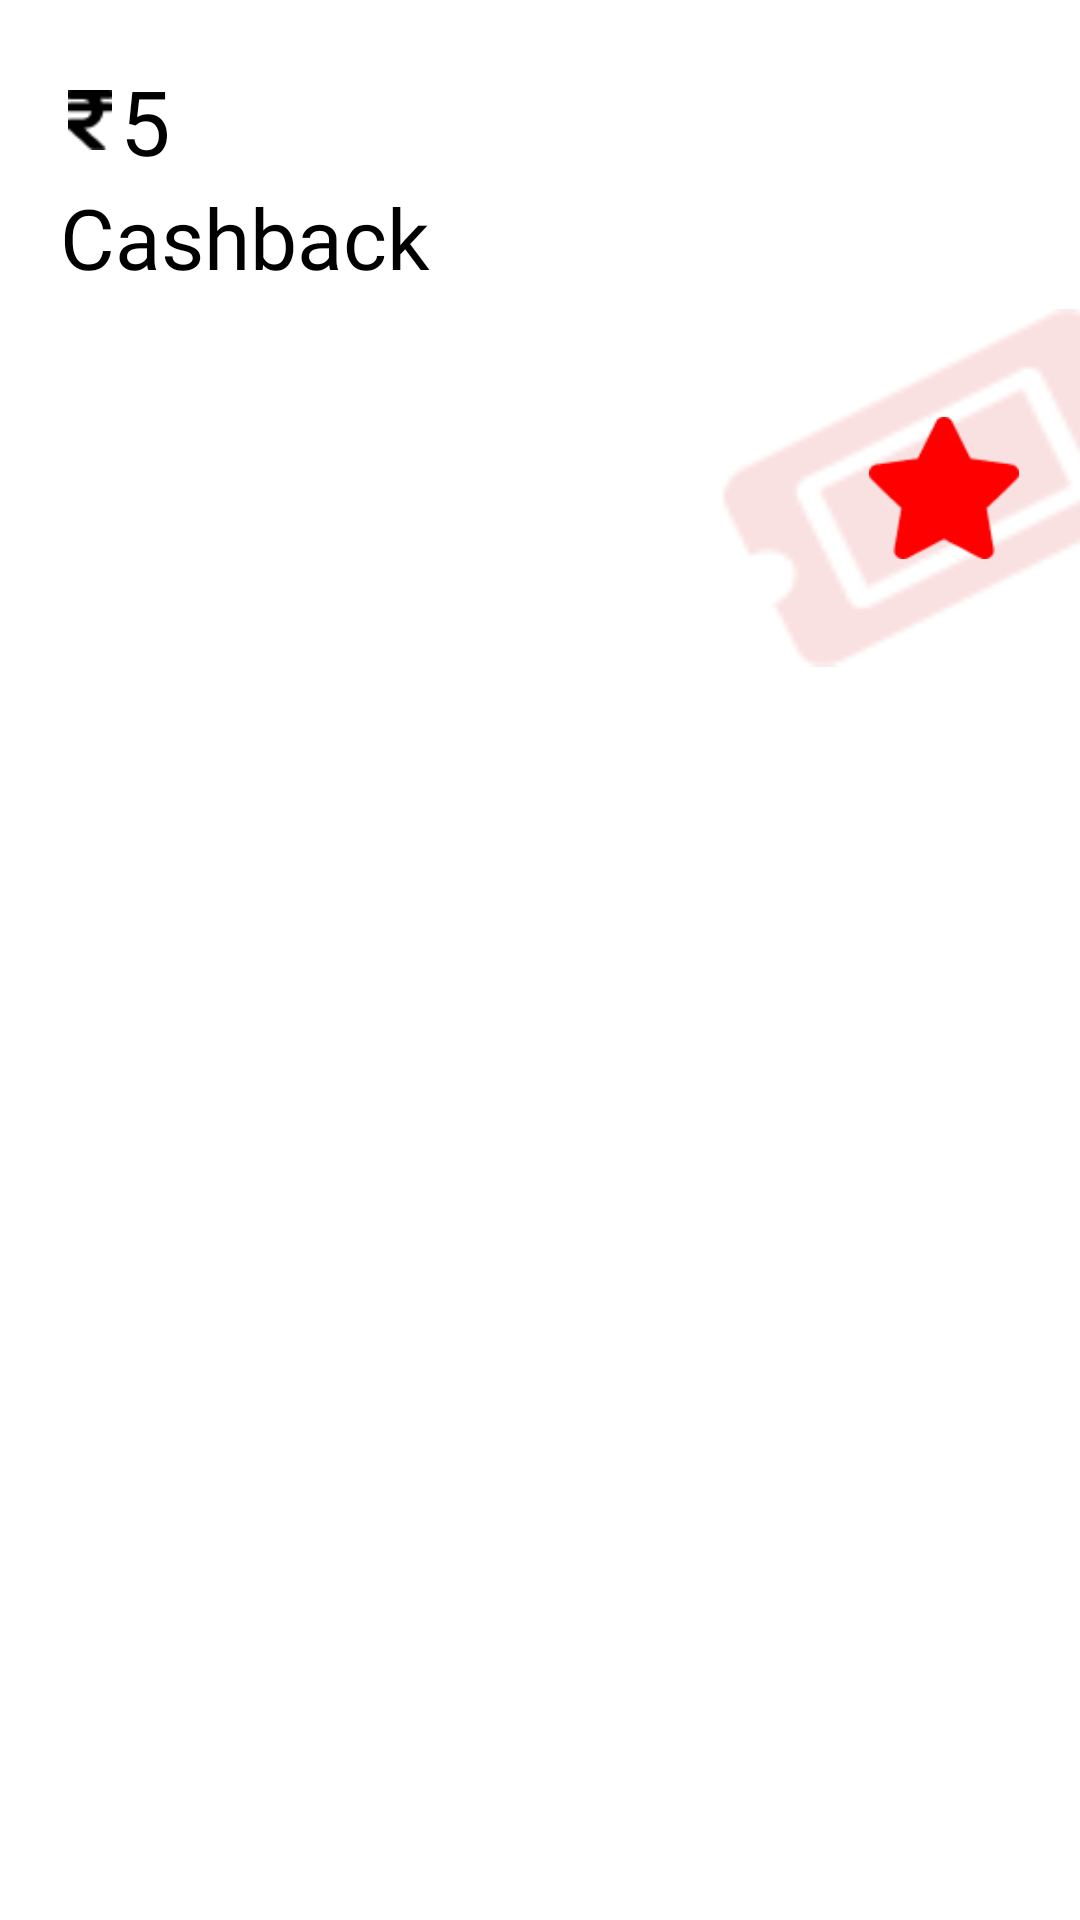

Point at icon controls on the screen. Image size 1080x1920, points as (x,y).
rupee: (90,120)
star: (944,488)
